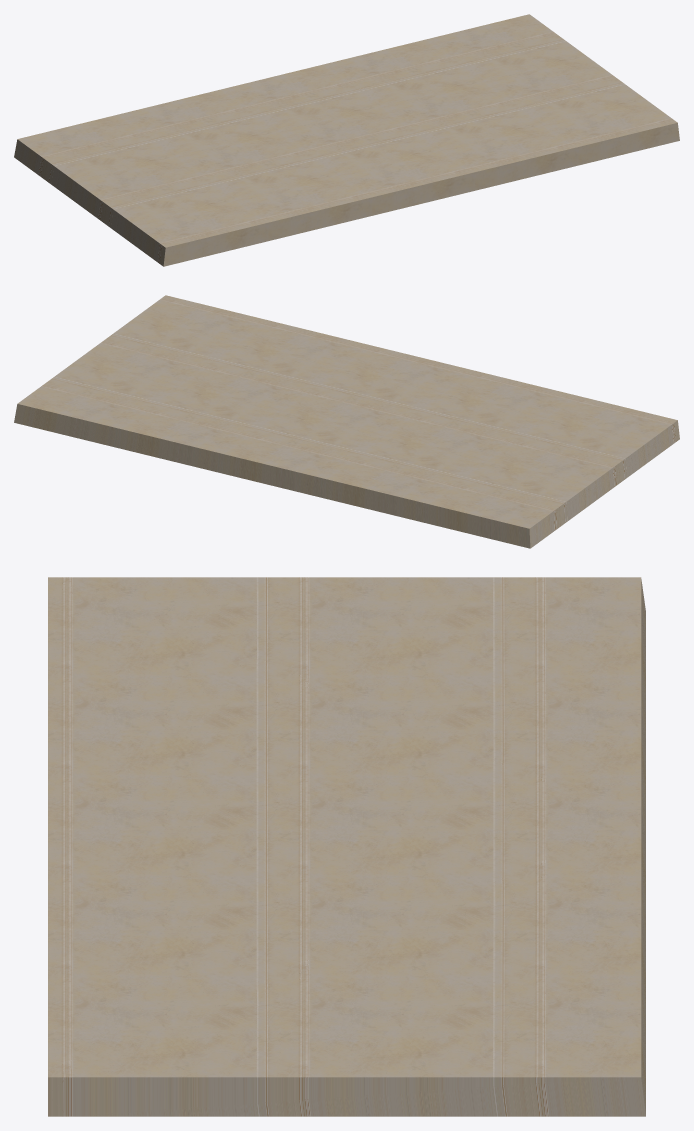
Rendered from R3_Stone_Floor.fbx.
3 renders of one model, top to bottom at view 1: azimuth 30°, elevation 25°; view 2: azimuth 150°, elevation 25°; view 3: azimuth 270°, elevation 25°, orthographic. The views are drawn at different scales.
Parts seen in each view (by area): view 1: SM_Ceiling2_LOD0; view 2: SM_Ceiling2_LOD0; view 3: SM_Ceiling2_LOD0.
Boxes of the visible parts, x1,y1,x2,y2 form: SM_Ceiling2_LOD0: (14, 14, 679, 266); SM_Ceiling2_LOD0: (14, 295, 679, 548); SM_Ceiling2_LOD0: (48, 577, 645, 1116).
Size of the model in its own units: 400 by 14.93 by 201.
